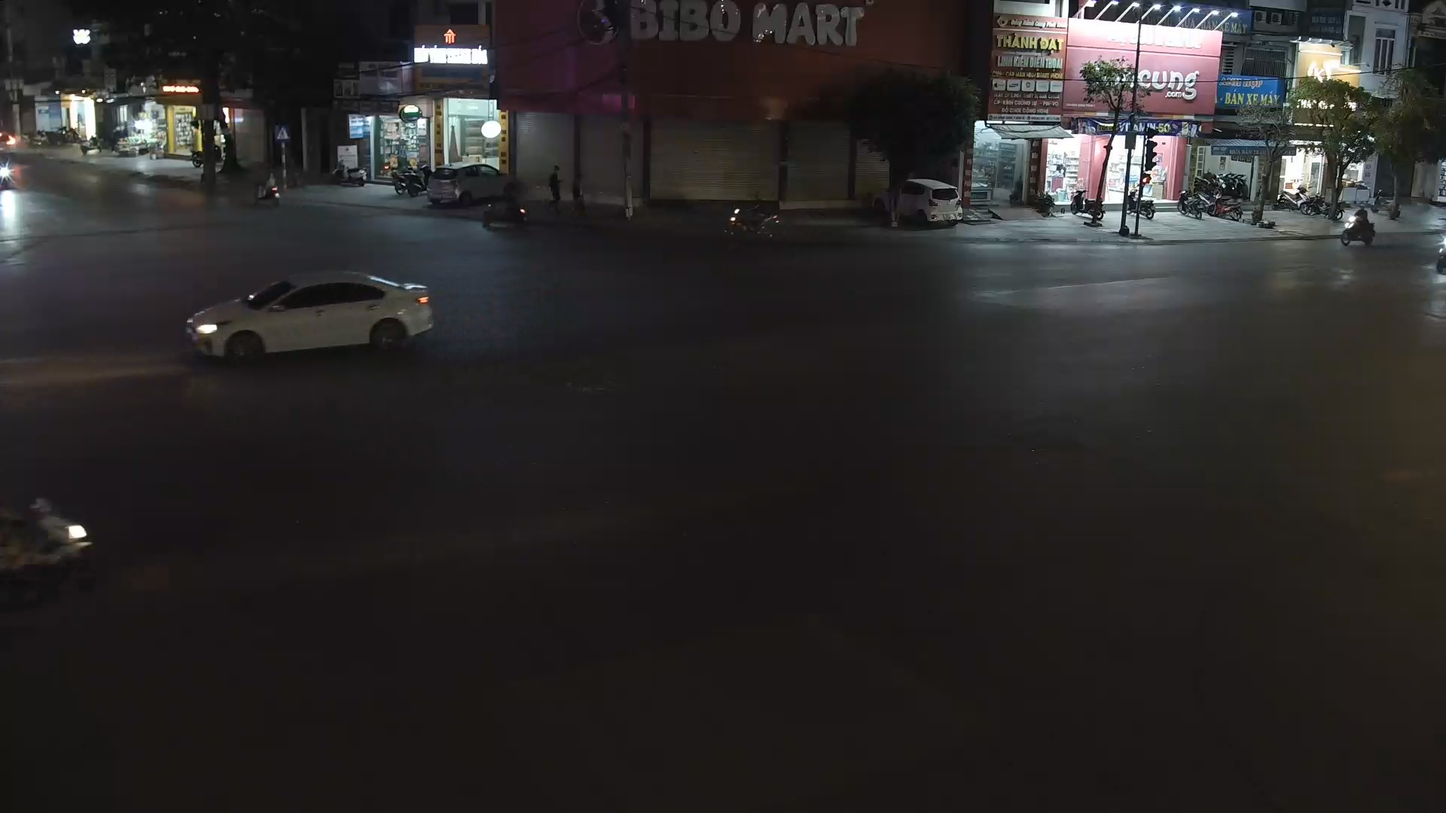car: (182, 270, 435, 365), (890, 177, 962, 229)
motorbike: (480, 182, 529, 232)
